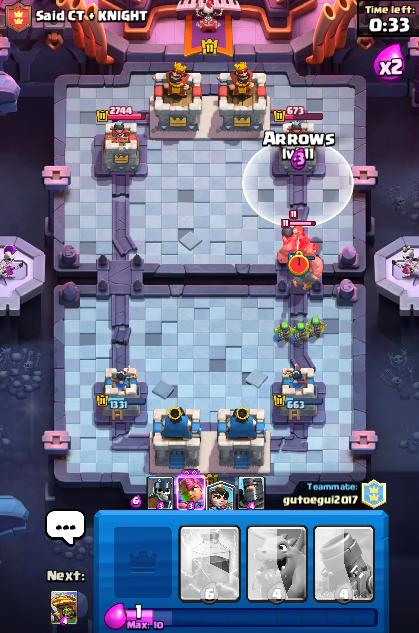EBomber: (282, 225, 303, 236)
EGolem: (277, 231, 321, 266)
EKingTower: (153, 63, 201, 130), (219, 63, 267, 129)
EnemyPrincessTower: (276, 123, 323, 172), (102, 122, 138, 174)
OKnight: (288, 252, 314, 289)
OSpearGoblin: (290, 322, 309, 343), (306, 317, 325, 338), (274, 321, 291, 342)
OwnKingTower: (217, 407, 270, 472), (150, 407, 198, 473)
OwnPrincessTower: (95, 366, 146, 421), (273, 365, 322, 420)
